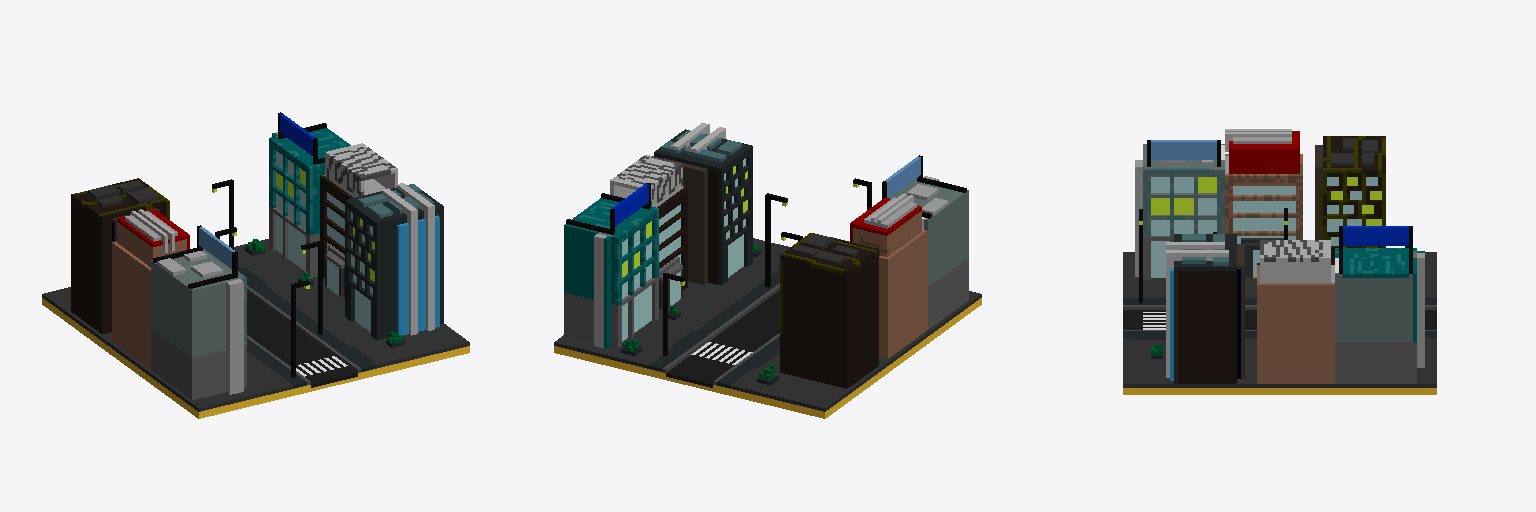
3 views of the same model, side by side, from view 1: azimuth 30°, elevation 25°; view 2: azimuth 150°, elevation 25°; view 3: azimuth 270°, elevation 25° (orthographic).
Visible parts, largest first — view 1: cityStraight; view 2: cityStraight; view 3: cityStraight.
Part boxes in pixels (x1,y1,x2,y2): cityStraight: (42,112,469,418); cityStraight: (554,123,981,418); cityStraight: (1123,129,1436,394).
Bounding box in the file's own units: 80 × 41 × 80.
1 materials, 1 textured.